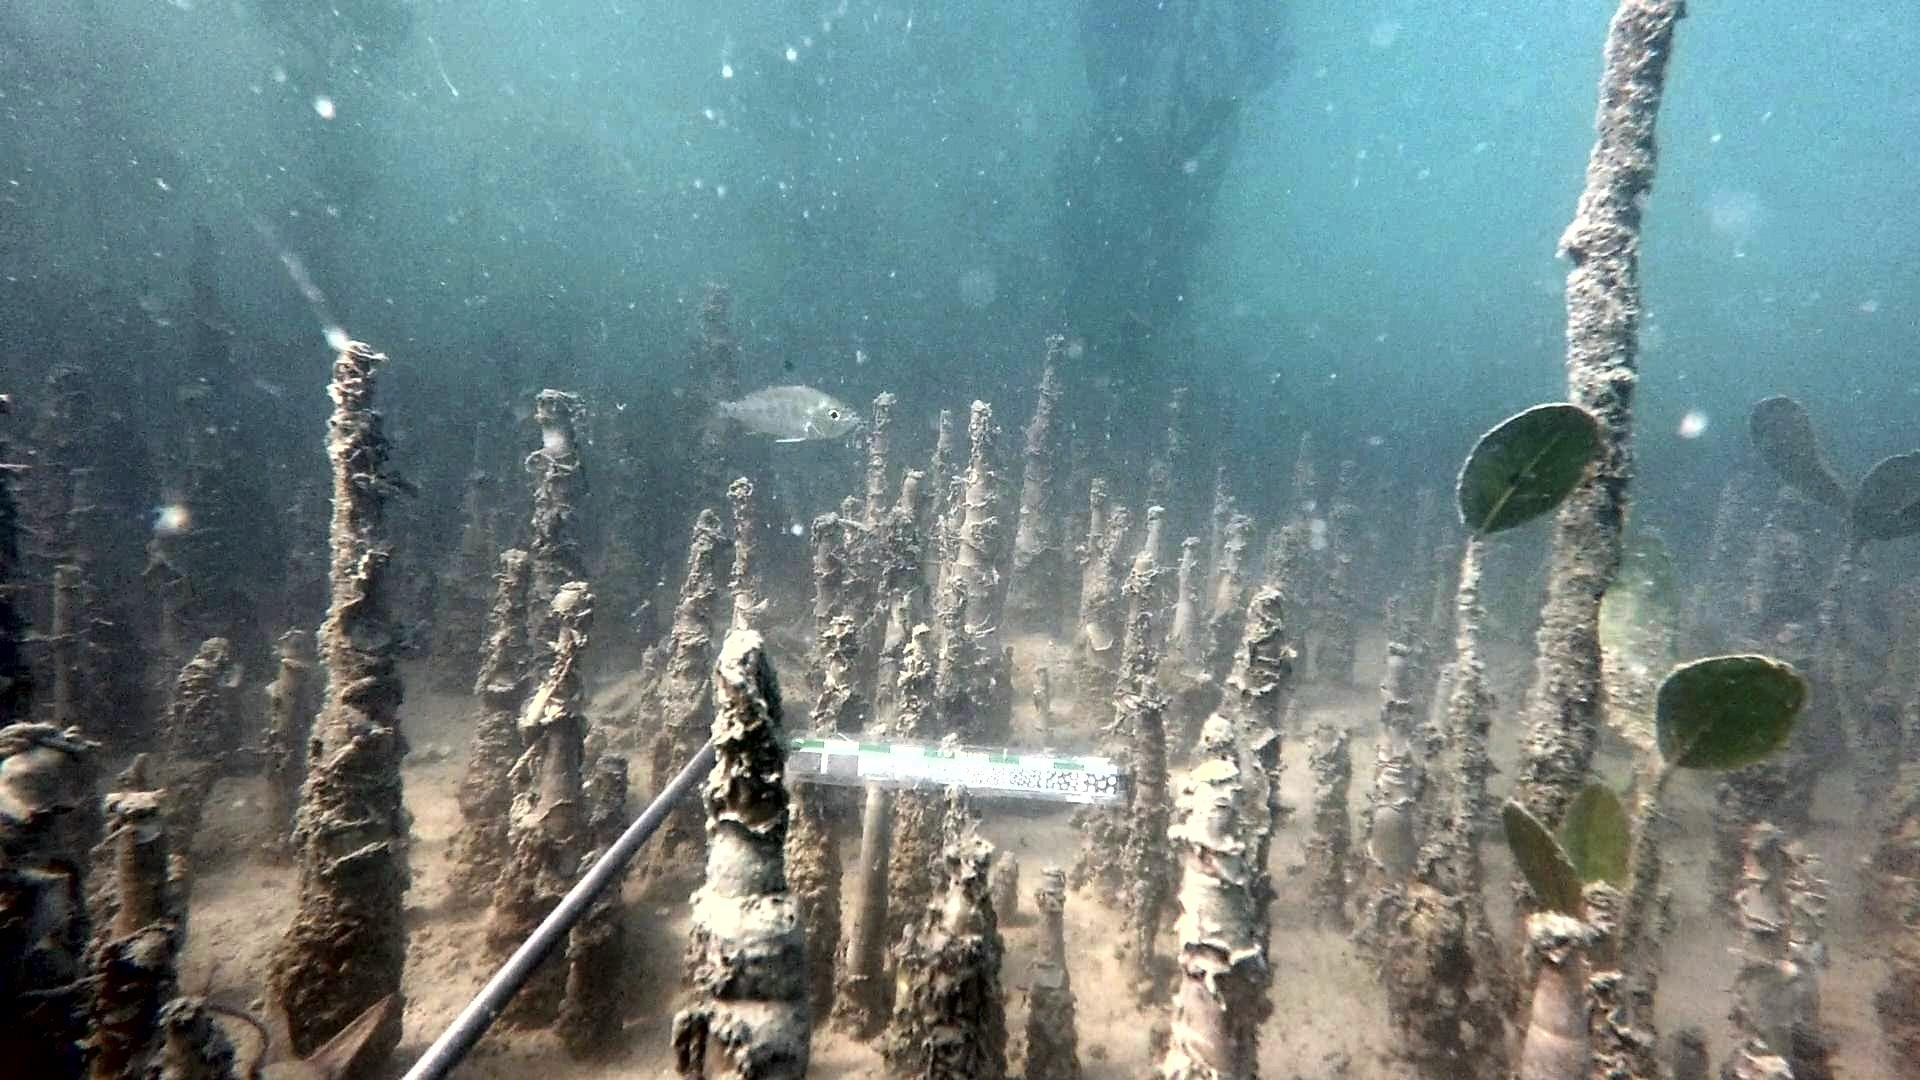gerres: (691, 357, 862, 446)
